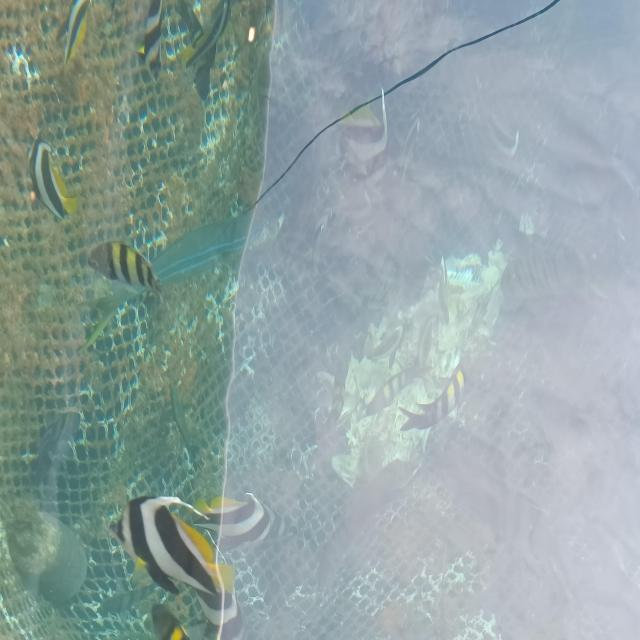ikan: (108, 493, 244, 639), (191, 490, 283, 552), (184, 0, 232, 102), (397, 364, 466, 432), (86, 238, 164, 298), (27, 137, 78, 221), (363, 363, 433, 417), (55, 0, 90, 65)
